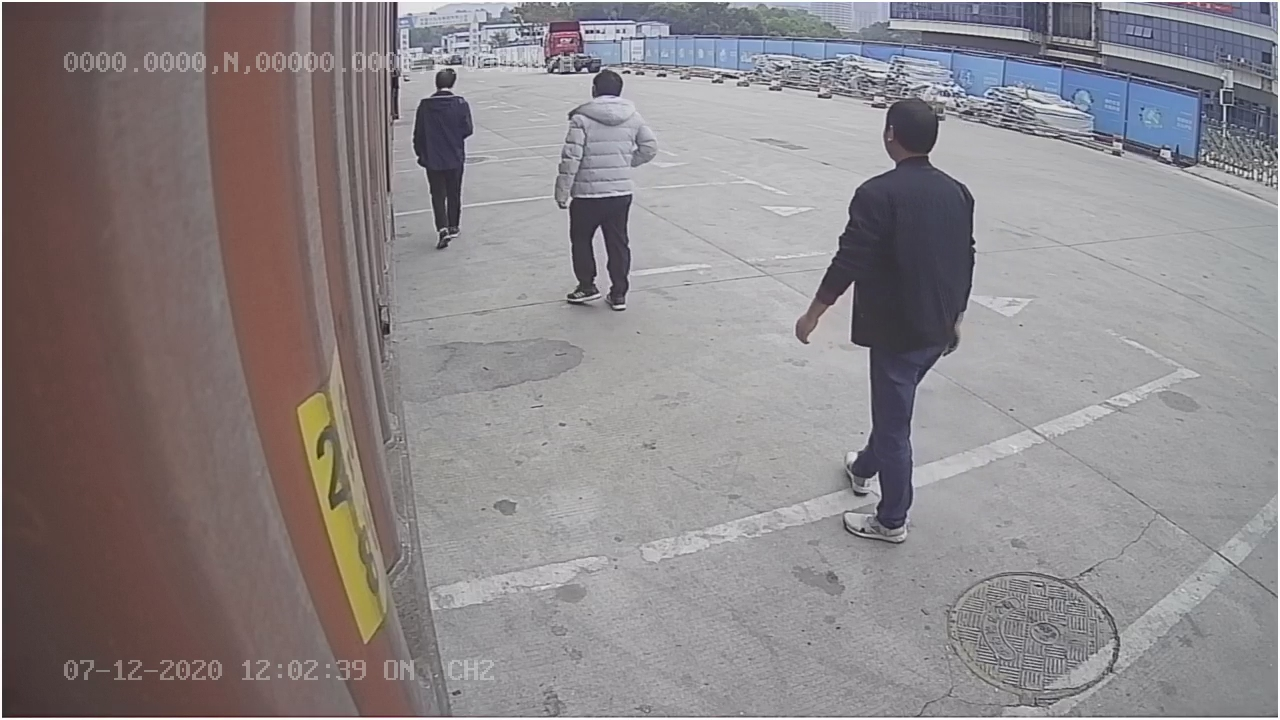person: (797, 89, 981, 544), (550, 65, 662, 314)
